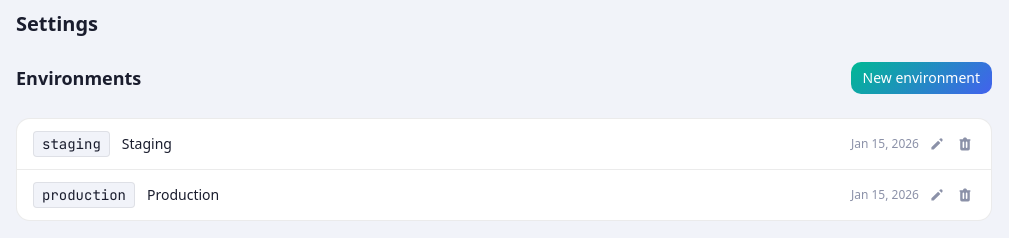
Test: EnvironmentSettingsPage › reverts name on rename failure
Expected: the text "Staging" is shown, 122,134 -> 172,154
Click the button named "Edit name of environment staging" at [937, 144], box 927,134 -> 947,154
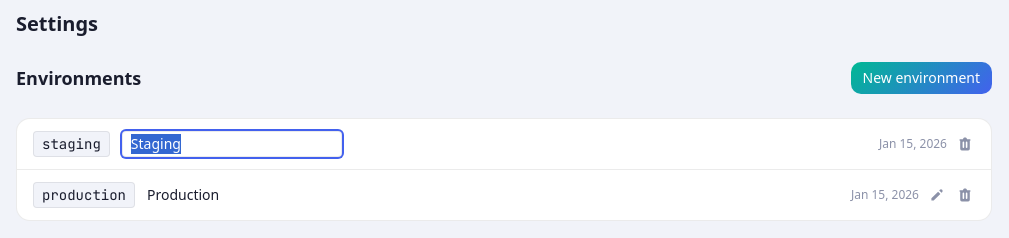
Replace the text in the field named "Edit name of environment staging" with "NewName" at [232, 144], box 122,131 -> 342,157
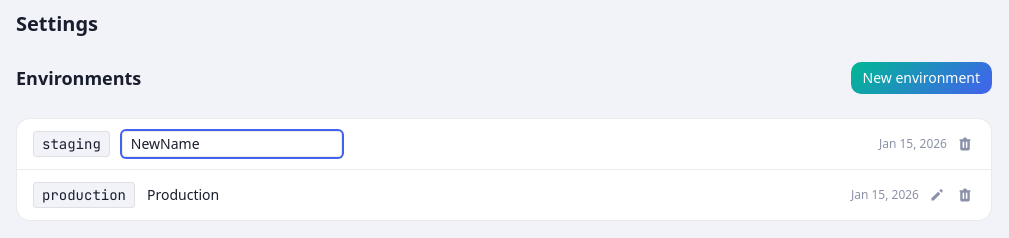
Note: Blur triggers saveEdit which calls the mutation
Leave the field named "Edit name of environment staging", box 122,131 -> 342,157
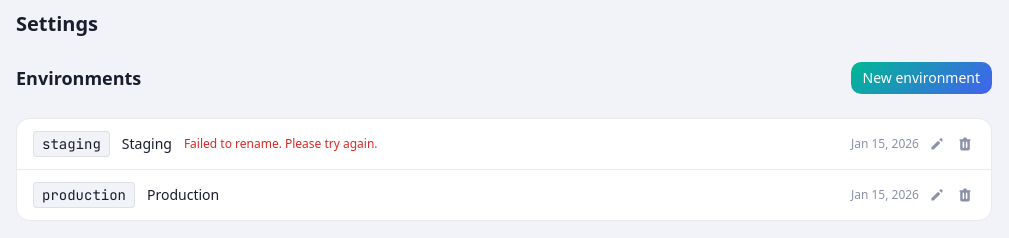
Now the text "Staging" is shown, box 122,134 -> 172,154
